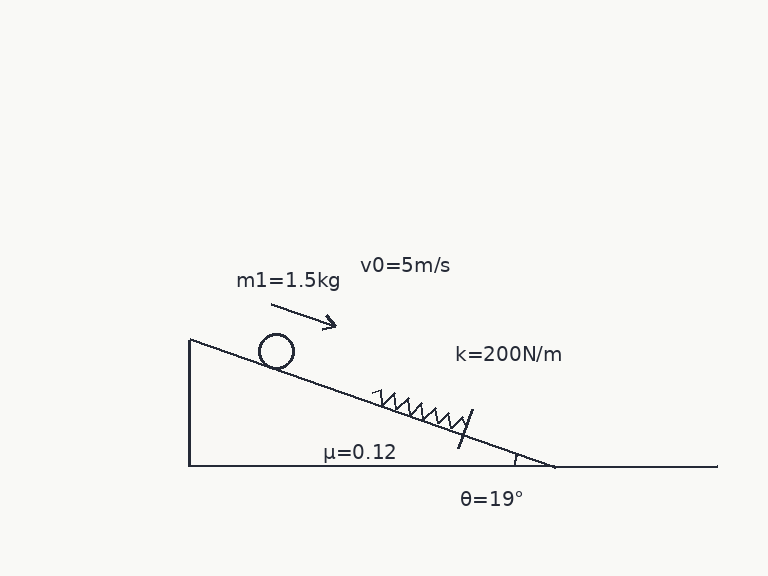ball: (256, 331, 296, 371)
ramp: (187, 338, 557, 468)
spring: (369, 387, 468, 430)
